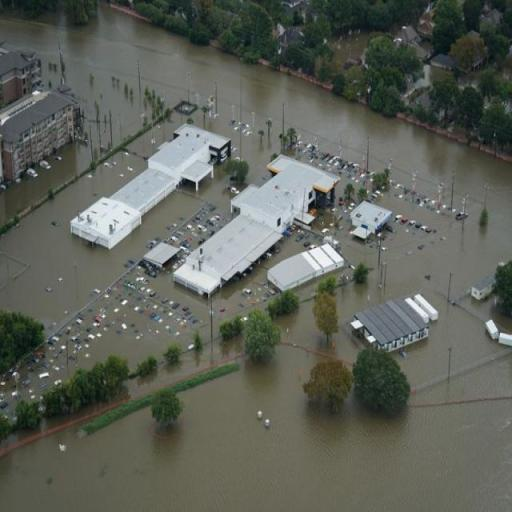flood: (242, 64, 512, 386), (0, 346, 512, 512), (0, 114, 230, 332), (0, 6, 178, 224), (0, 7, 241, 145), (0, 336, 244, 454), (0, 103, 97, 224), (213, 235, 307, 335), (410, 357, 512, 409), (69, 330, 179, 376), (148, 273, 209, 324), (275, 300, 326, 350), (156, 312, 194, 348), (40, 357, 67, 388), (111, 307, 148, 328), (2, 379, 17, 418), (30, 373, 60, 390), (93, 296, 121, 308), (199, 325, 211, 342), (19, 385, 30, 396)
house: (169, 209, 291, 298), (68, 166, 186, 252), (1, 84, 81, 191), (266, 238, 348, 311), (350, 291, 436, 353), (152, 118, 226, 190), (0, 44, 38, 106), (350, 200, 395, 241)
